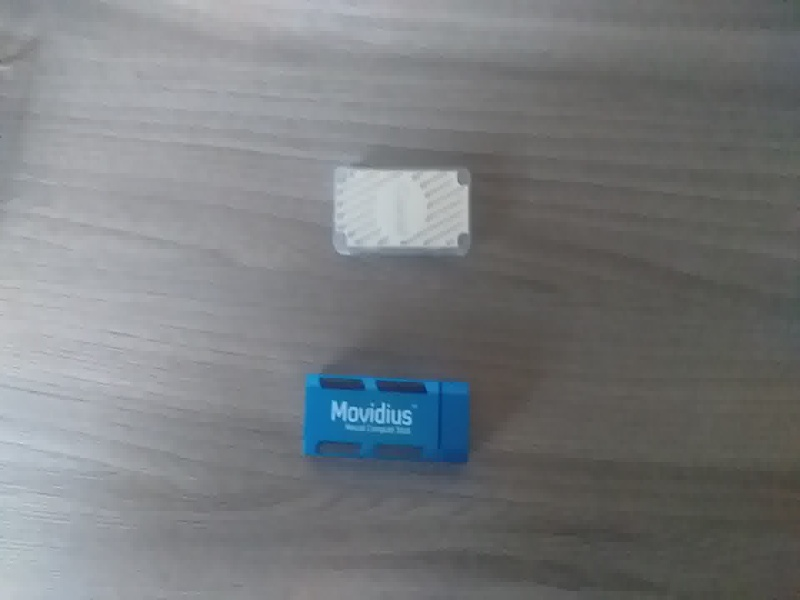coral: (317, 160, 494, 256)
movidius: (292, 363, 480, 477)
